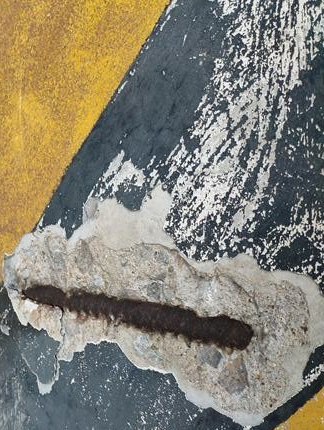Exposed reinforcement: (21, 284, 254, 351)
Spalling: (1, 181, 324, 430)
